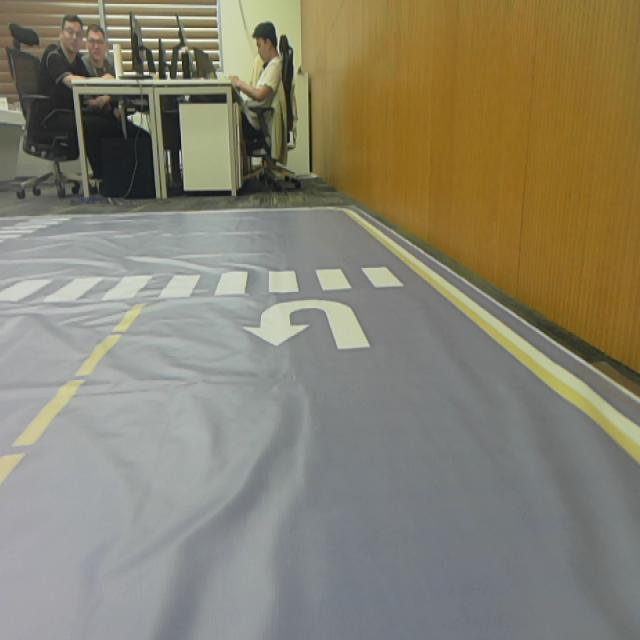left_lane: (0, 302, 145, 487)
right_lane: (344, 212, 640, 463)
